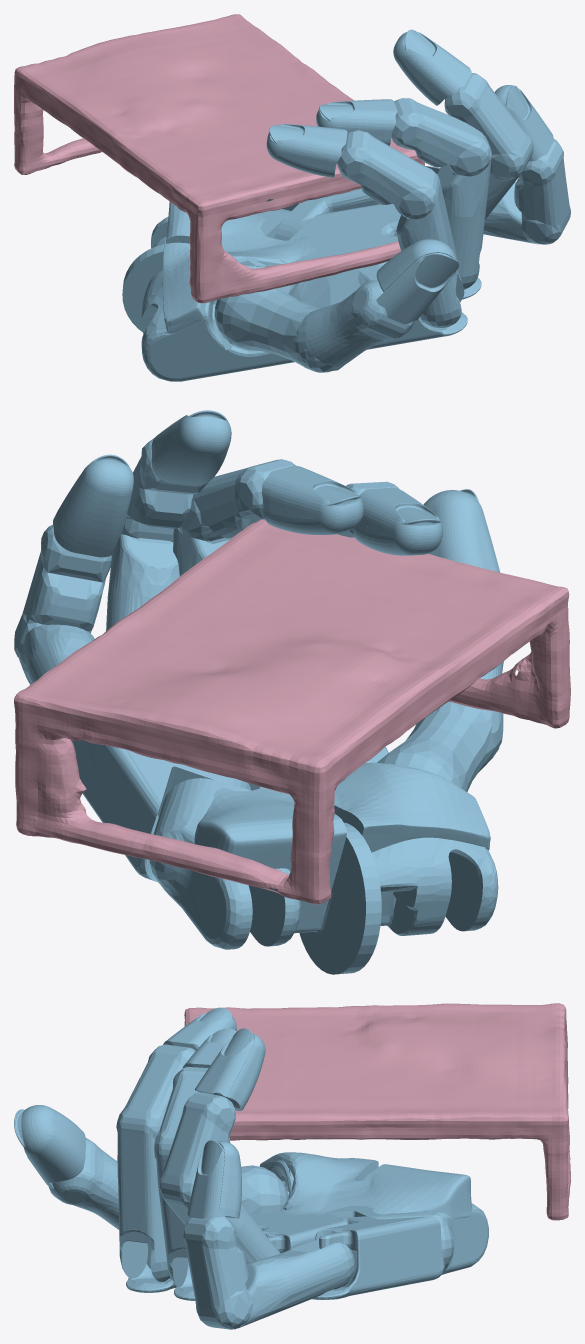
3 renders of one model, top to bottom at view 1: azimuth 30°, elevation 25°; view 2: azimuth 150°, elevation 25°; view 3: azimuth 270°, elevation 25°, orthographic. The views are drawn at different scales.
Visible parts, largest first — view 1: hand, world; view 2: world, hand; view 3: hand, world.
Boxes of the visible parts, x1=… form: hand: x1=122, y1=29, x2=570, y2=381; world: x1=14, y1=14, x2=424, y2=303; world: x1=14, y1=519, x2=570, y2=904; hand: x1=14, y1=410, x2=503, y2=974; hand: x1=14, y1=1007, x2=488, y2=1329; world: x1=184, y1=1003, x2=570, y2=1220.
Size of the model in its own units: 0.1572 by 0.1238 by 0.189.
